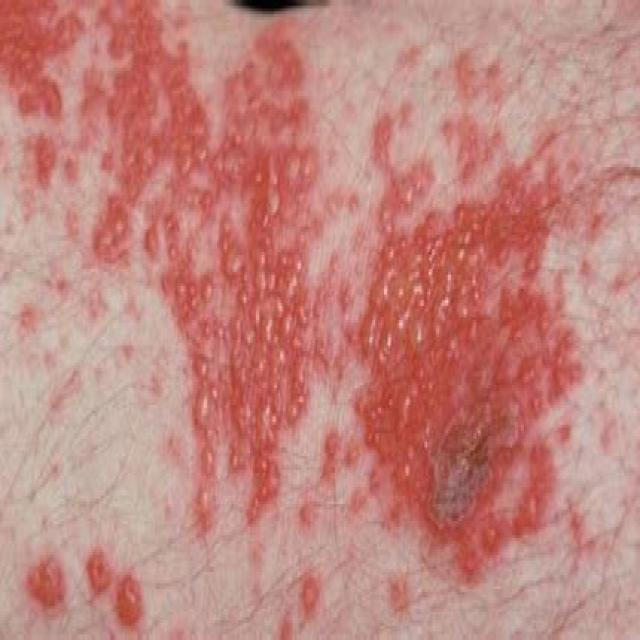Shingles: (0, 0, 586, 623)
